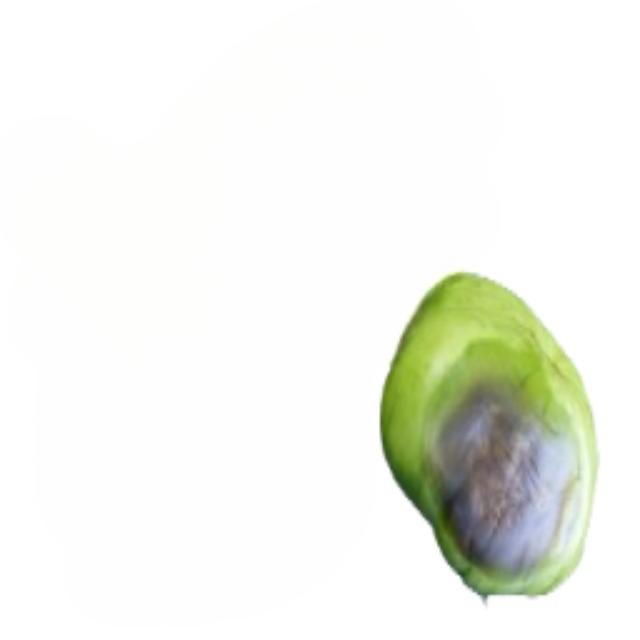defect: (371, 266, 606, 606)
